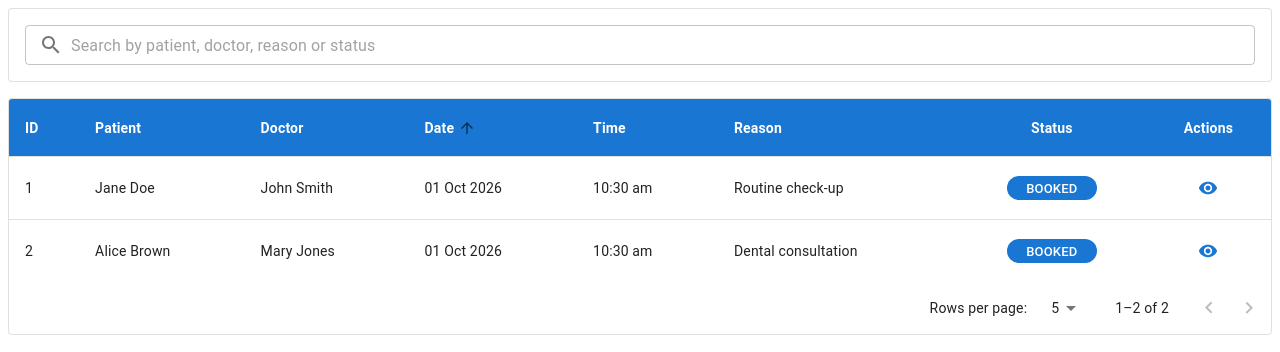
AppointmentTable › should filter appointments by search text
In the field with placeholder "Search by patient, doctor, reason or status": (663, 45) 71,25 -> 1255,65, type "Alice"
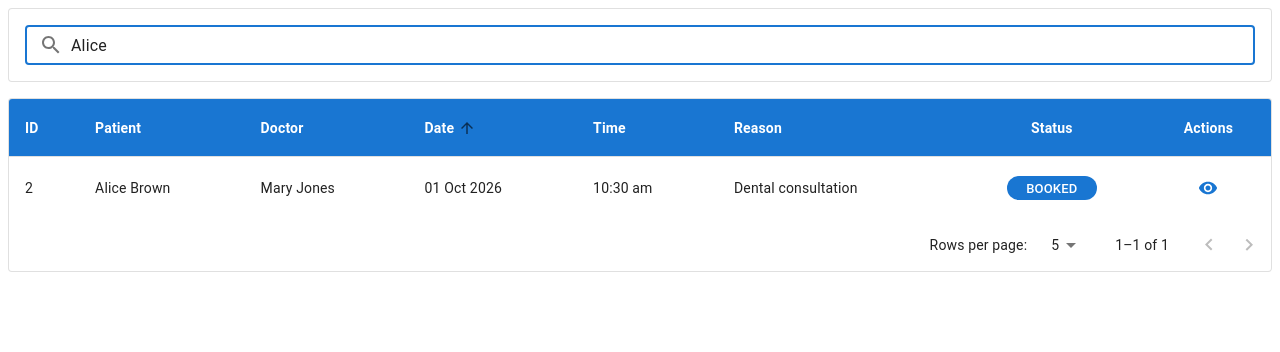
Expected: the text "Alice Brown" is shown, 95,180 -> 170,196
Now the text "Jane Doe" is gone
